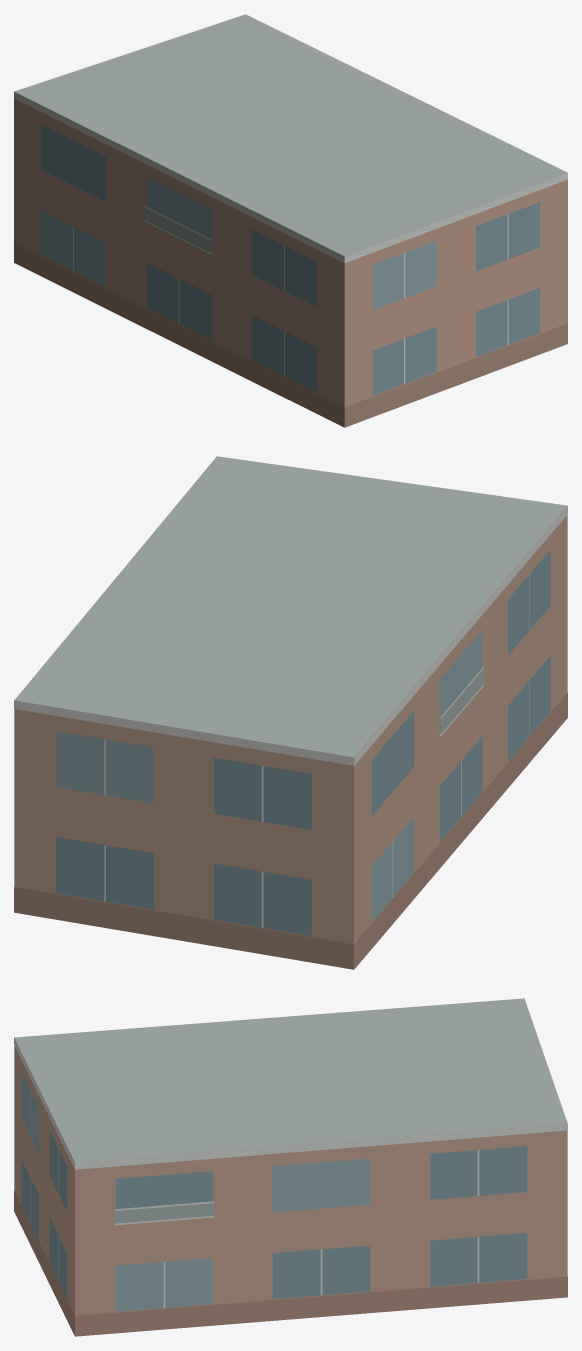
Rendered from survey-upis-32898498.glb.
3 renders of one model, top to bottom at view 1: azimuth 30°, elevation 25°; view 2: azimuth 150°, elevation 25°; view 3: azimuth 270°, elevation 25°, orthographic. The views are drawn at different scales.
Visible parts, largest first — view 1: survey-upis-32898498.tmp; view 2: survey-upis-32898498.tmp; view 3: survey-upis-32898498.tmp.
Boxes of the visible parts, x1=… form: survey-upis-32898498.tmp: x1=14, y1=14, x2=567, y2=427; survey-upis-32898498.tmp: x1=14, y1=456, x2=567, y2=969; survey-upis-32898498.tmp: x1=14, y1=998, x2=567, y2=1336.
Bounding box in the file's own units: 12.4 × 6.1 × 17.63.
